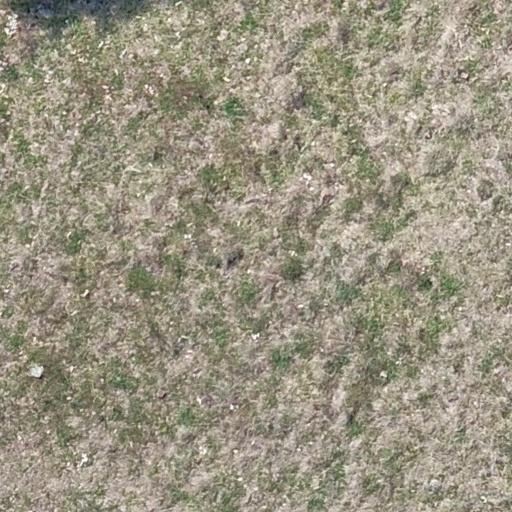stone: (217, 28, 231, 40), (460, 69, 472, 82), (379, 370, 391, 379), (244, 55, 251, 64)
